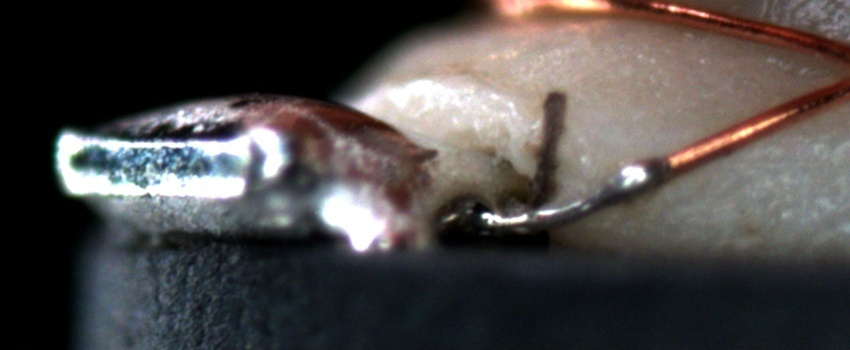DL: (692, 134, 849, 184)
TB: (612, 150, 673, 203)
TS: (477, 159, 670, 234)
TTCW: (475, 135, 711, 235)
